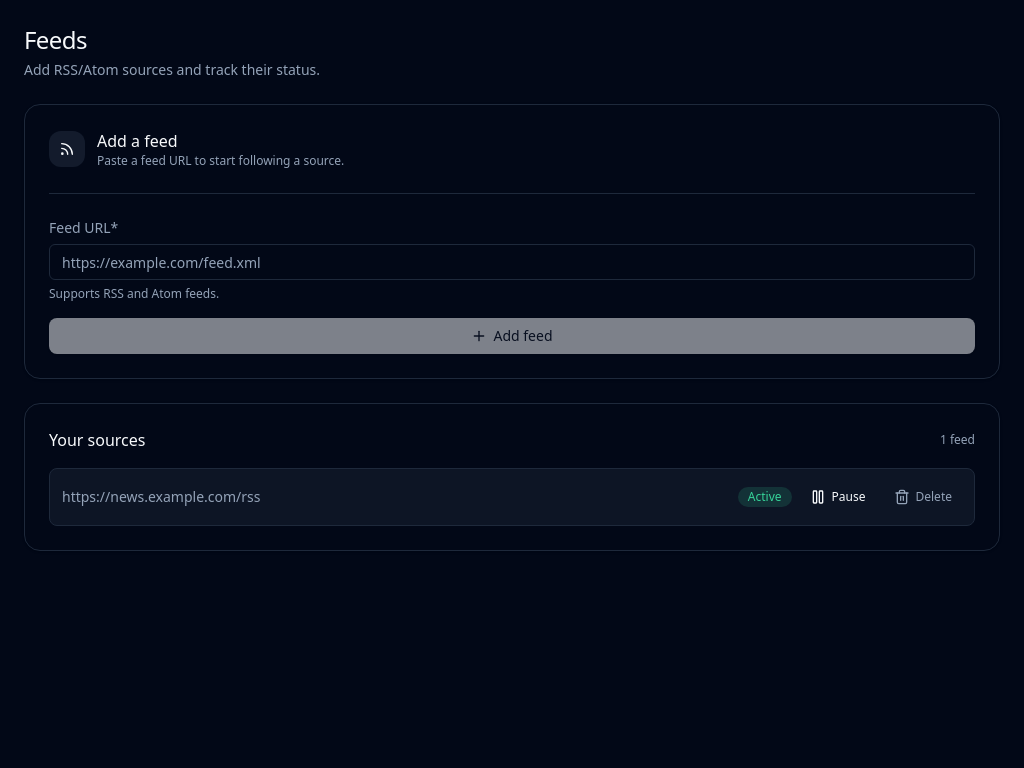
Test: Dashboard FeedsPage › pauses an active feed and flips the control to resume
Click the button "Pause" at (838, 497), box x1=800 y1=481 x2=876 y2=513
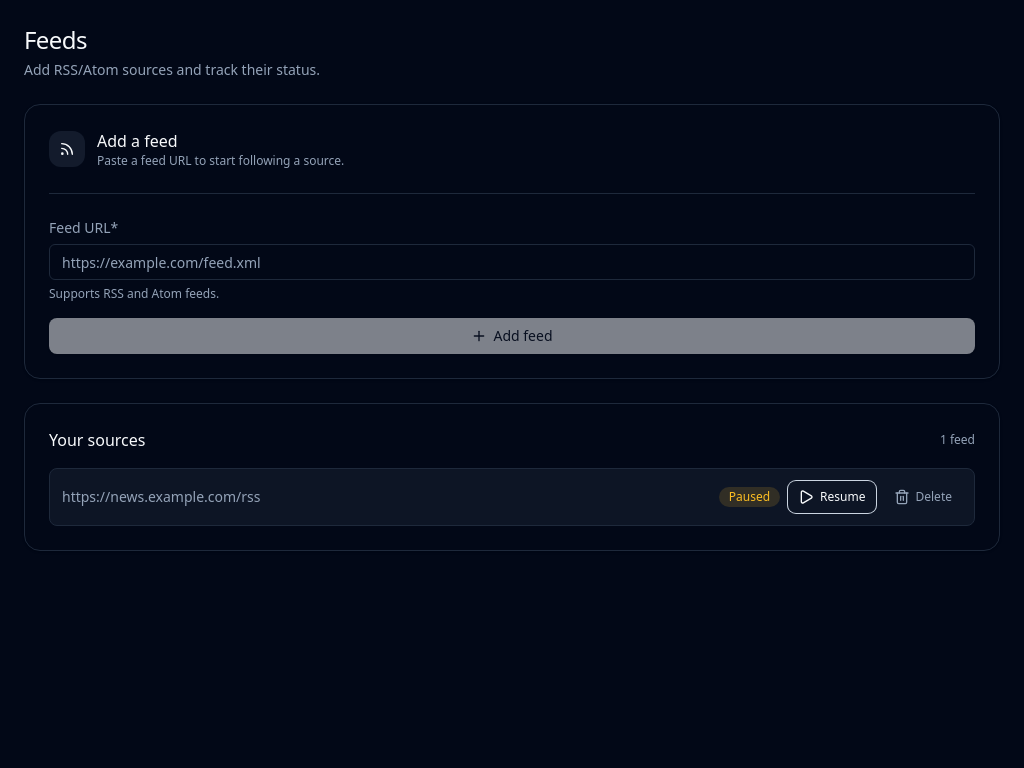
Now the button "Resume" is shown, box x1=788 y1=481 x2=876 y2=513
